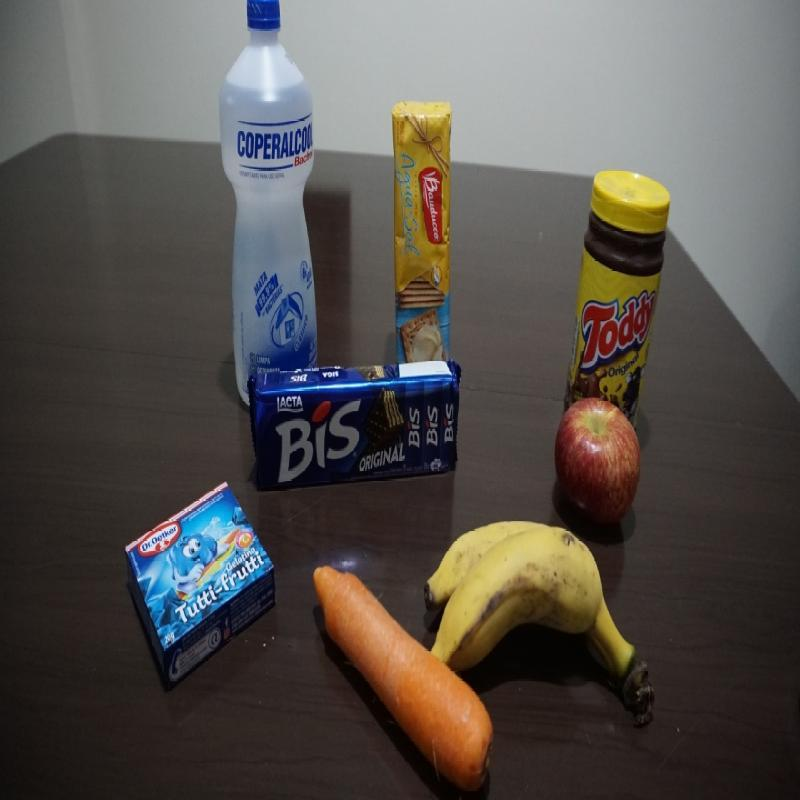Alcohol Bottle: (226, 0, 321, 354)
Apple: (550, 401, 645, 513)
Banana: (432, 521, 662, 739)
Carrot: (304, 547, 425, 752)
Chocolate Powder: (574, 170, 668, 396)
Cracker: (392, 105, 450, 356)
Gelatine: (133, 481, 274, 690)
